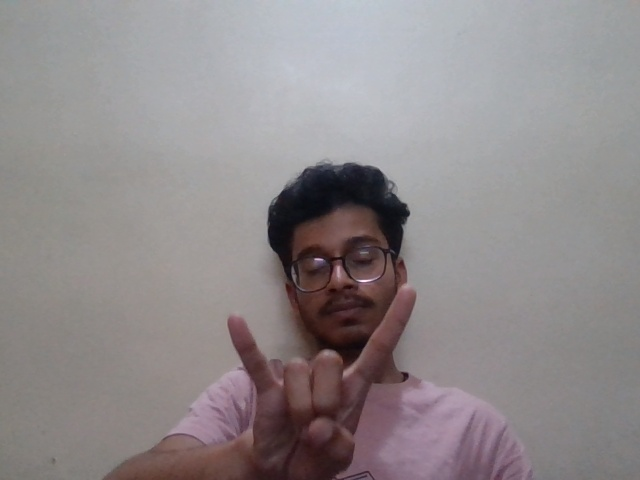i-love-you: (221, 276, 416, 467)
